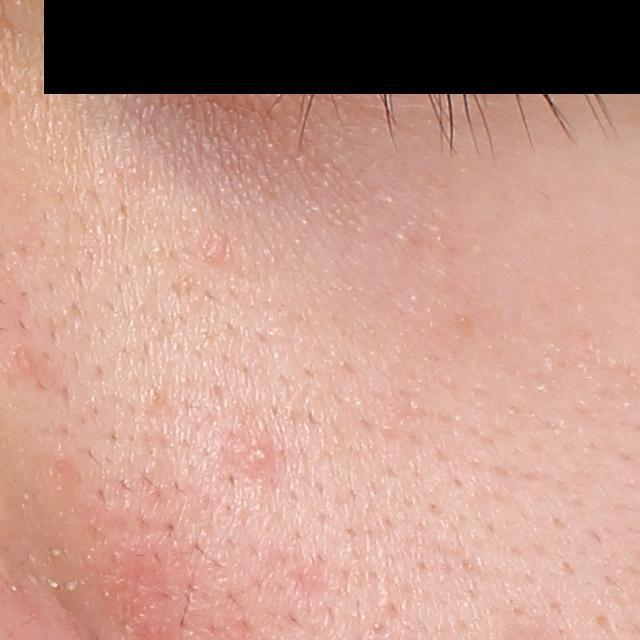pustule: (234, 439, 275, 468)
